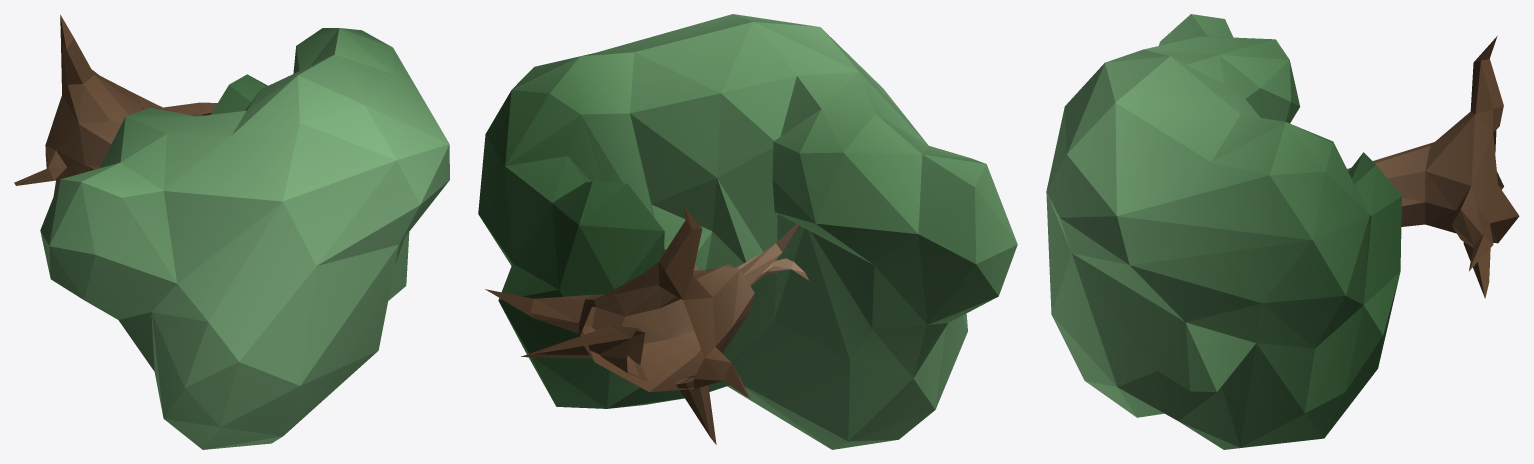
3 views of the same model, side by side, from view 1: azimuth 30°, elevation 25°; view 2: azimuth 150°, elevation 25°; view 3: azimuth 270°, elevation 25° (orthographic). The views are drawn at different scales.
Visible parts, largest first — view 1: Arbol2_0; view 2: Arbol2_0; view 3: Arbol2_0.
Boxes of the visible parts, left/top/right/bottom form: Arbol2_0: left=14, top=15, right=449, bottom=449; Arbol2_0: left=478, top=14, right=1017, bottom=449; Arbol2_0: left=1046, top=14, right=1519, bottom=449.
Bounding box in the file's own units: 1030 × 861 × 959.
Materials: 1 (1 with a texture image).
